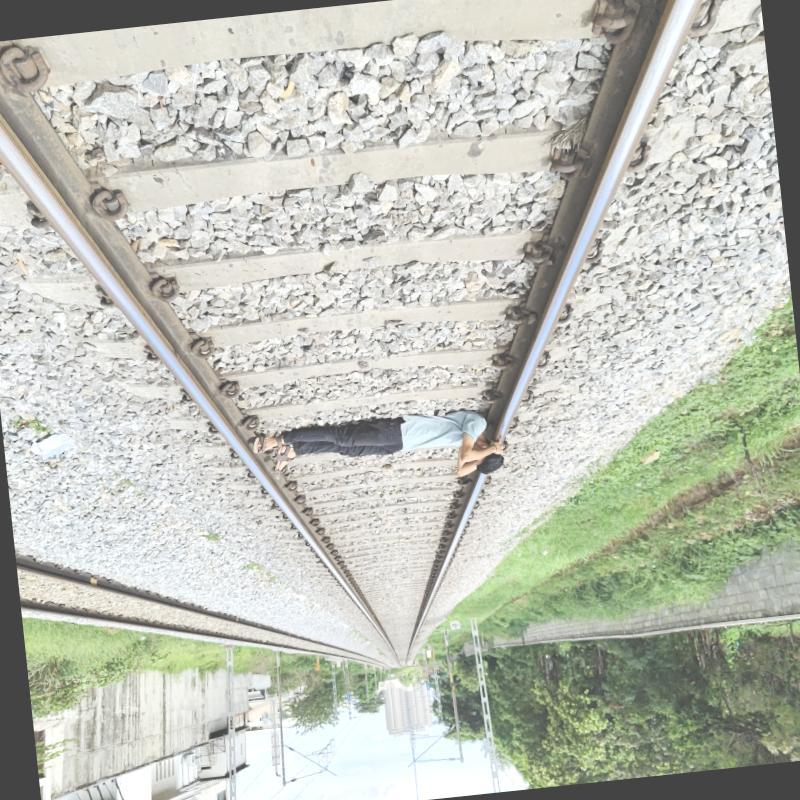sleeping: (240, 400, 514, 502)
